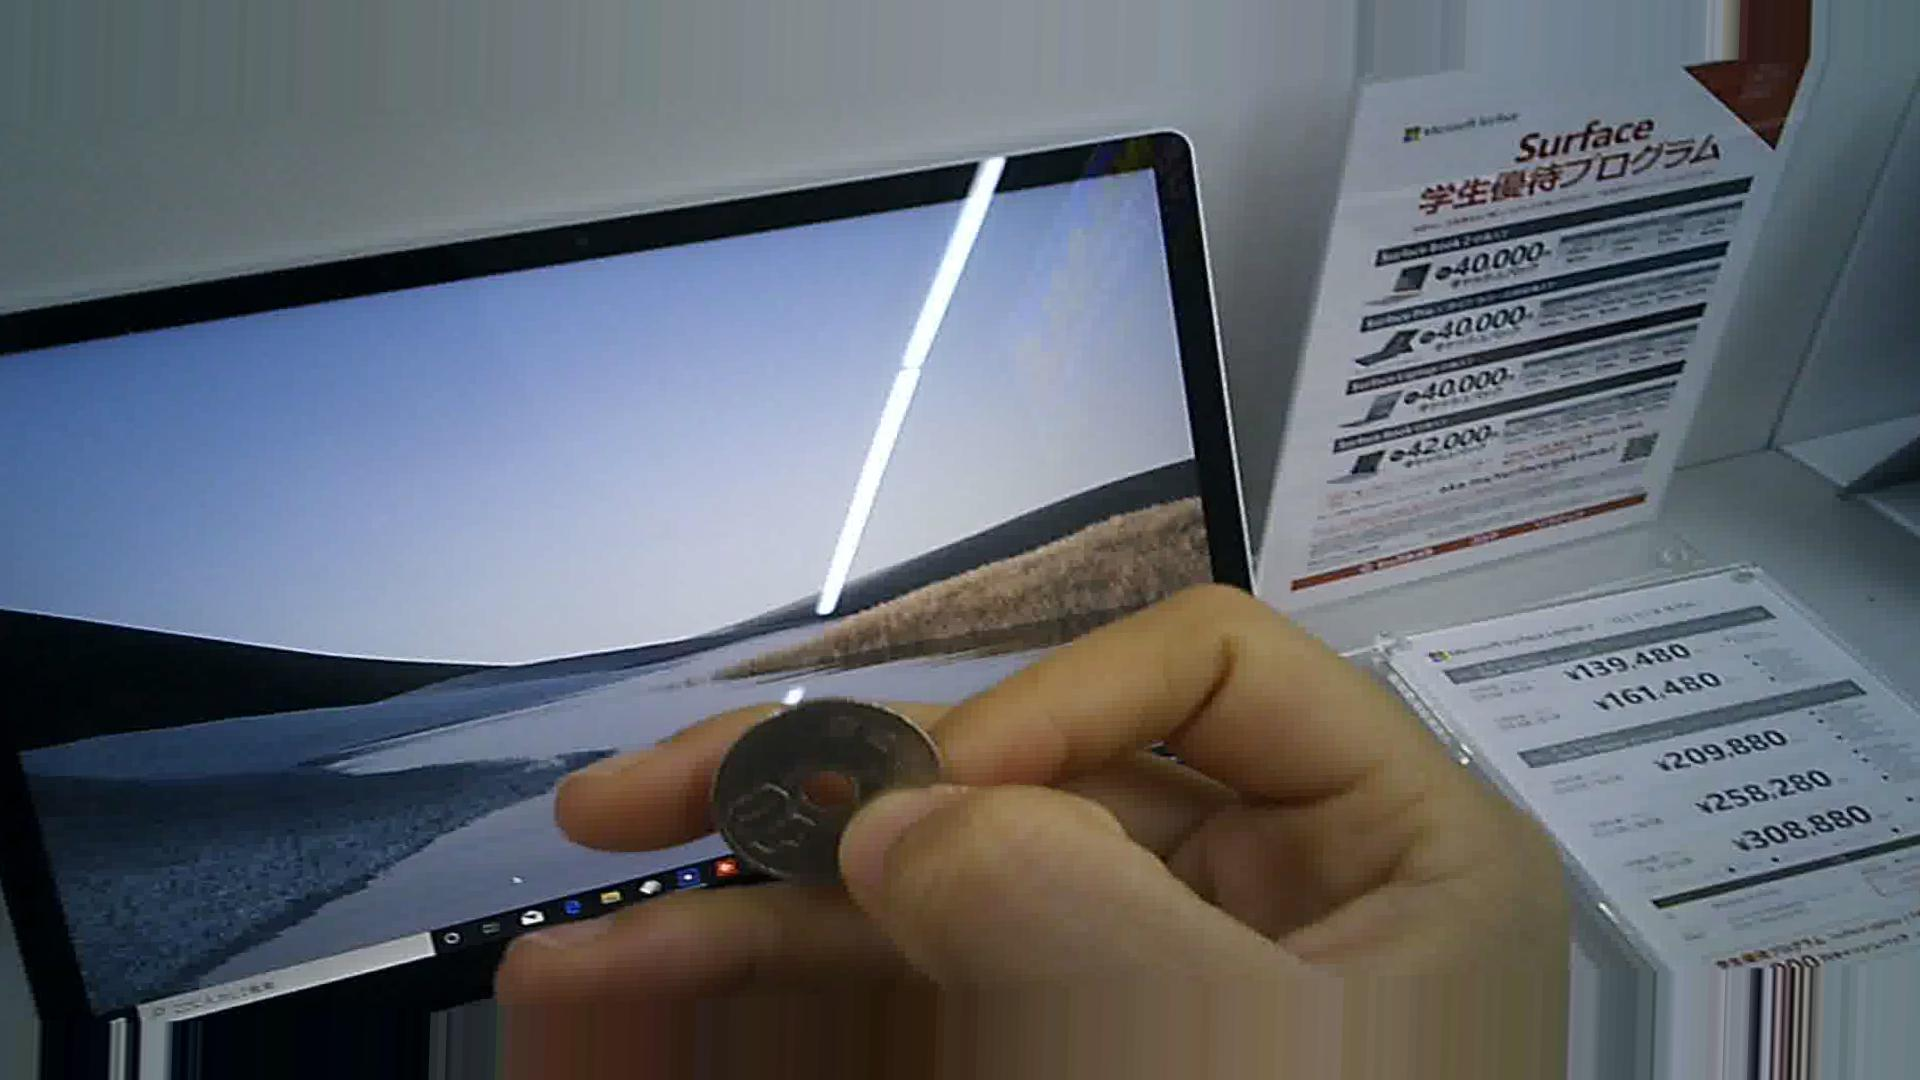50 Yen: (702, 687, 945, 893)
